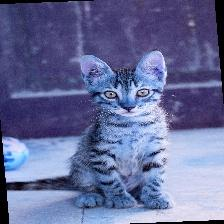kedo: (68, 51, 173, 208)
